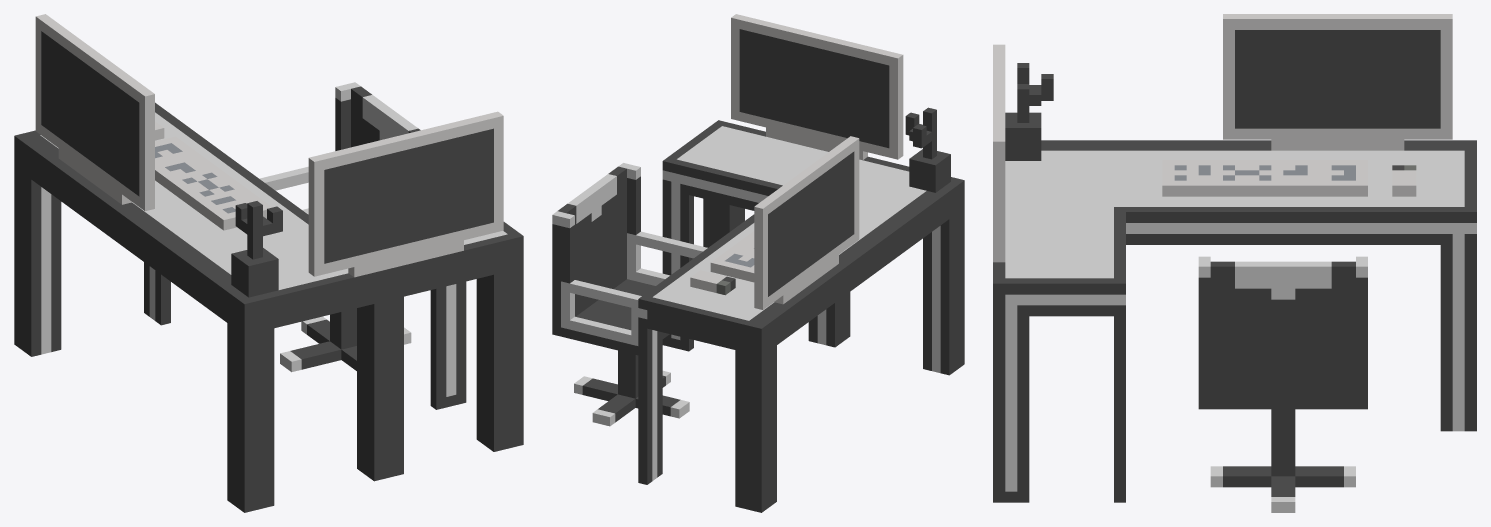
The model's file is worktable.obj.
The picture shows the model from 3 angles, left to right: view 1: azimuth 30°, elevation 25°; view 2: azimuth 150°, elevation 25°; view 3: azimuth 270°, elevation 25°; orthographic projection. The views are drawn at different scales.
Bounding box in the file's own units: 3 × 3.2 × 4.
